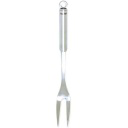fork: (46, 1, 76, 128)
